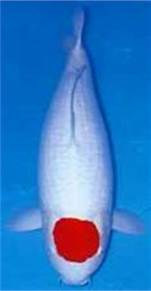sun: (9, 5, 143, 287)
